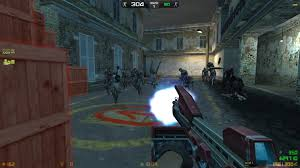gun: (148, 83, 279, 167)
